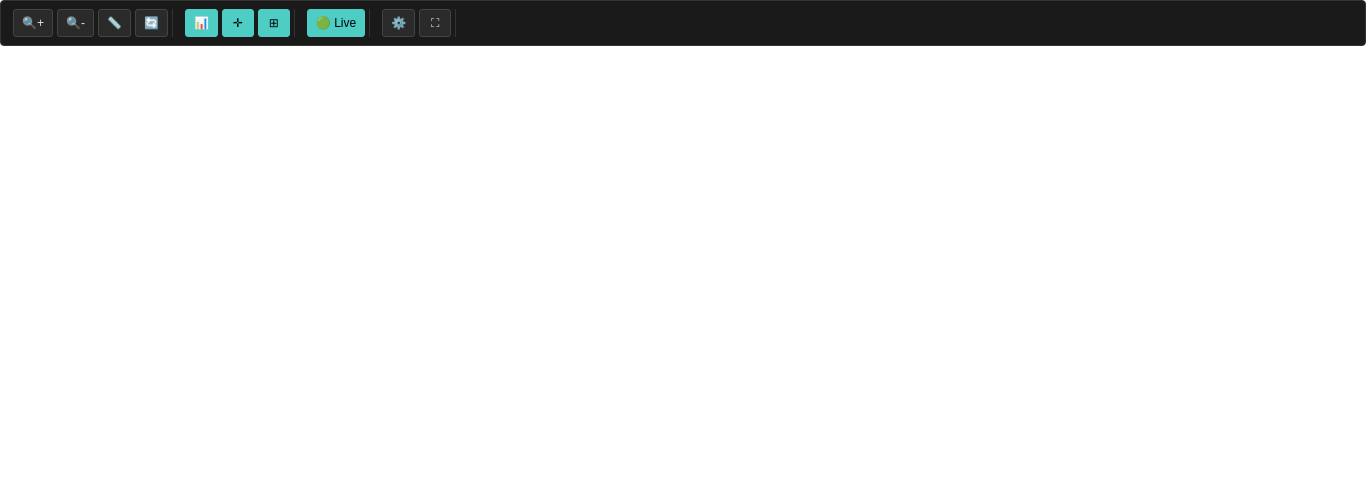
Test: ChartControls › toggles settings panel visibility
The width and height of the screenshot is (1366, 503).
Note: Open settings panel
Click the button titled "Chart Settings".
click(399, 23)  # box [382, 9, 415, 37]
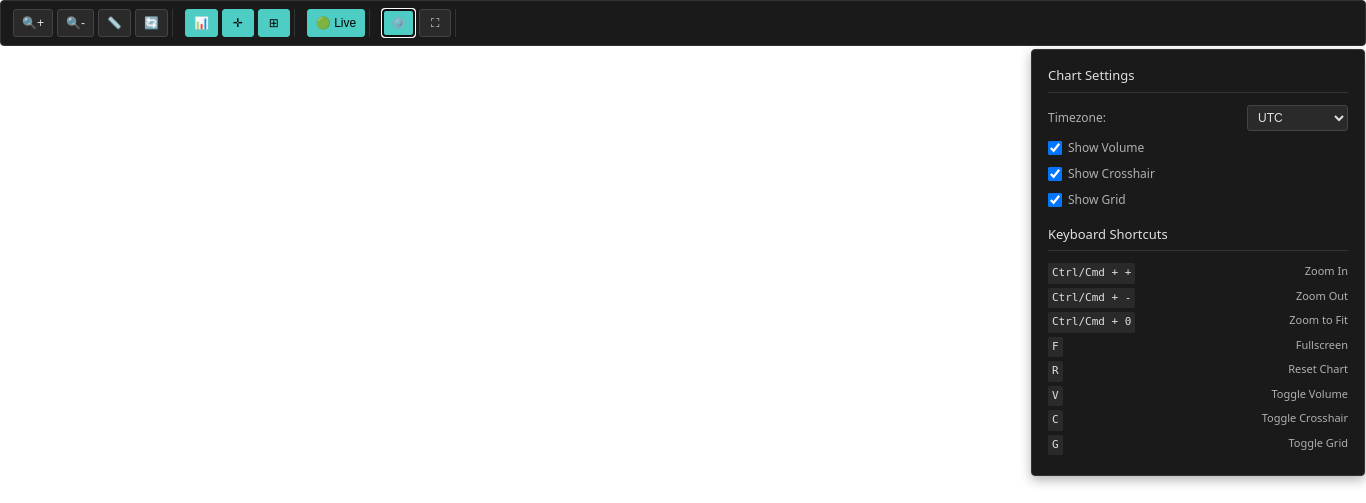
Now the heading "Chart Settings" is shown, box [1048, 66, 1348, 92]
Note: Close settings panel
Click the button titled "Chart Settings".
click(399, 23)  # box [382, 9, 415, 37]
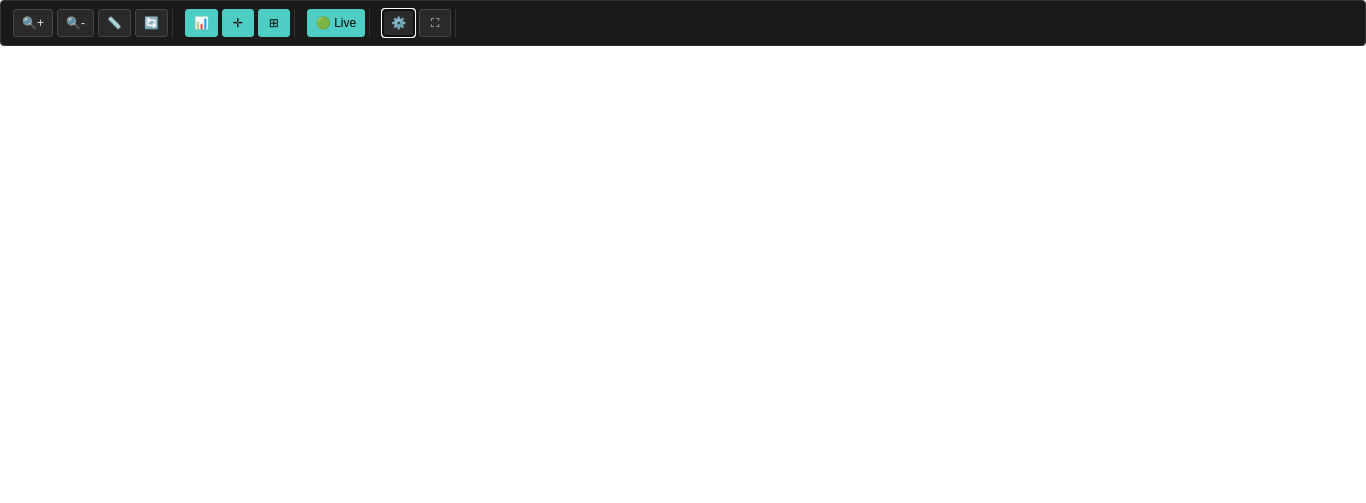
Now the heading "Chart Settings" is gone
